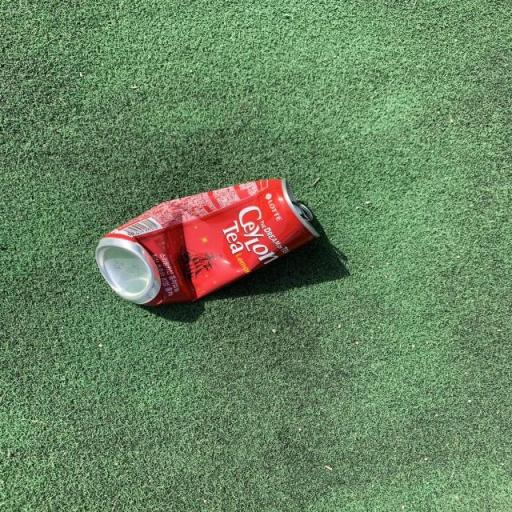metal: (59, 161, 344, 323)
